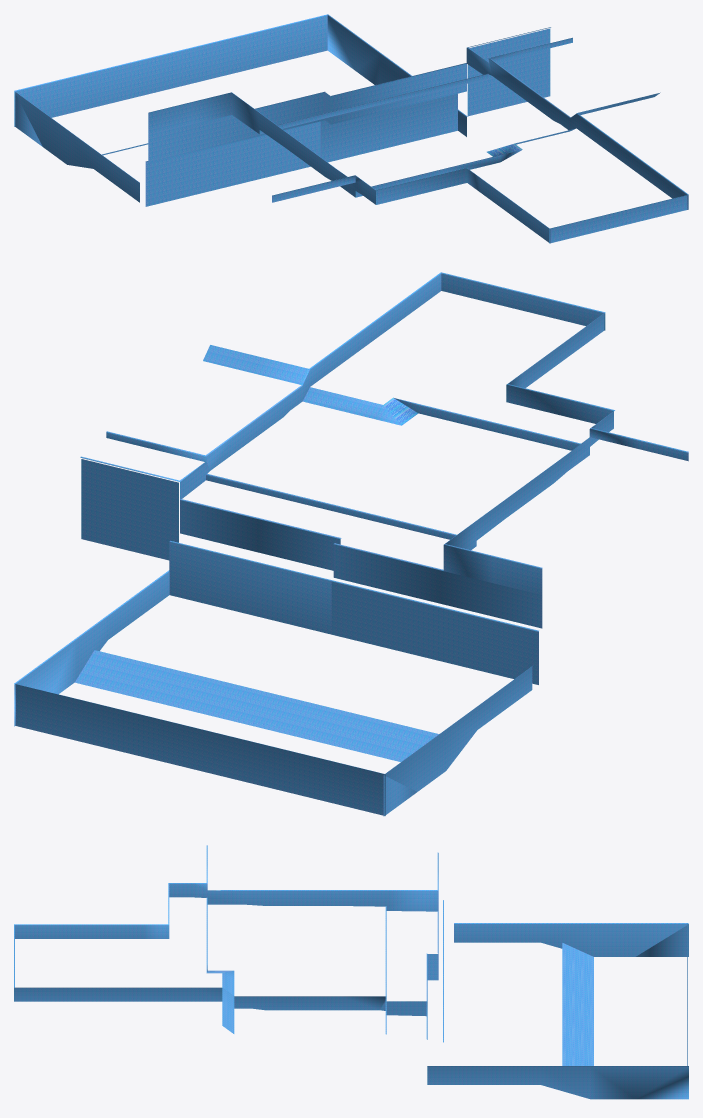
The model's file is Flow.obj.
3 views of the same model, one above another, from view 1: azimuth 30°, elevation 25°; view 2: azimuth 150°, elevation 25°; view 3: azimuth 270°, elevation 25° (orthographic). The views are drawn at different scales.
Size of the model in its own units: 8182 by 2355 by 12894.
1 material, 1 textured.
